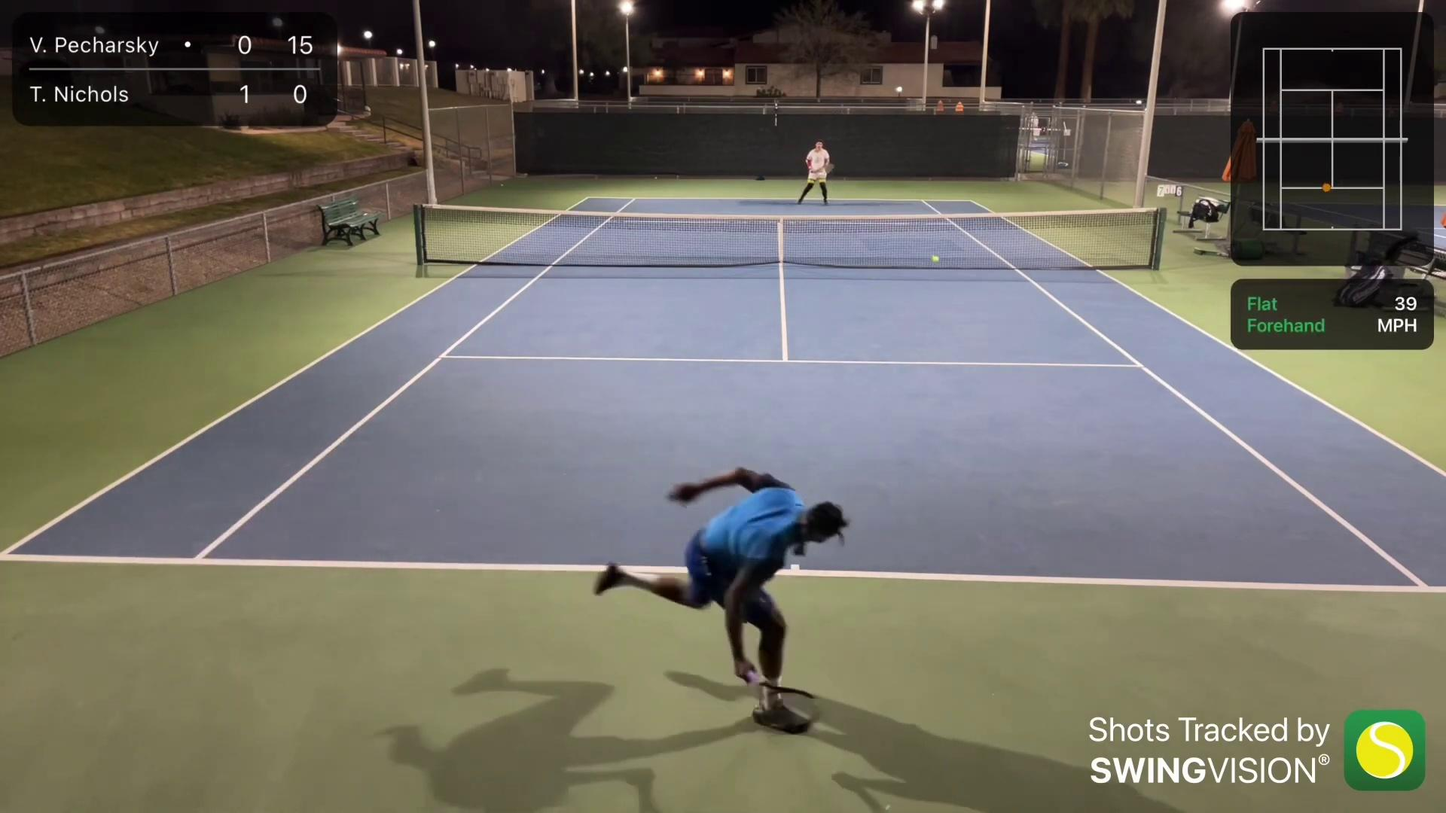ball: (933, 257, 940, 262)
